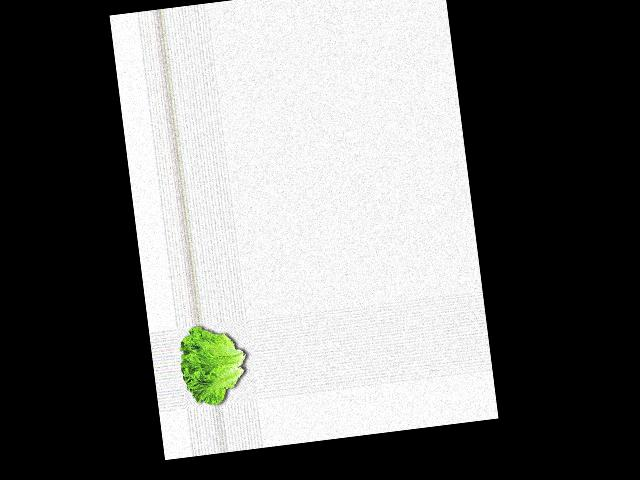lettuce: (177, 322, 253, 410)
